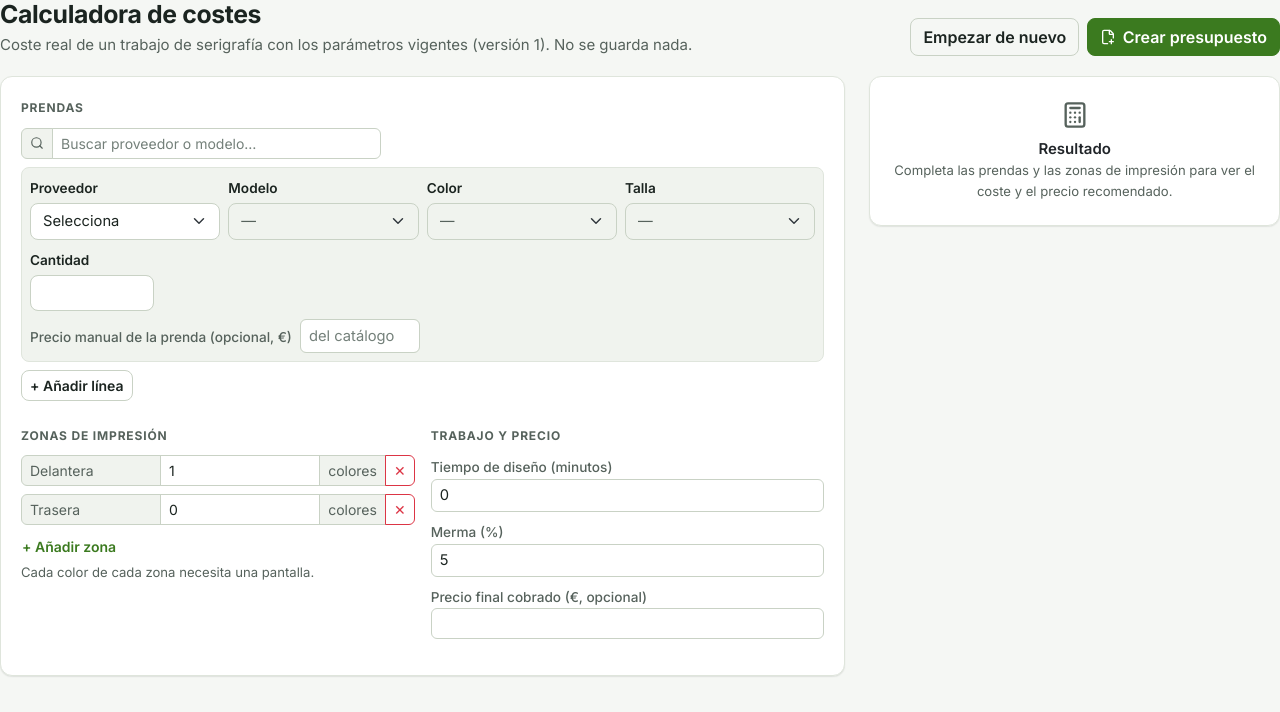
Test: de la calculadora a un presupuesto nuevo › si el trabajo está incompleto avisa antes de continuar; se puede seguir en la calculadora o pasarlo igualmente
Expected: the text "versión 1" is shown, [0,35,692,54]
Type "12" into the number field labelled "Cantidad" at {"x": 92, "y": 293}, box [30,275,154,312]
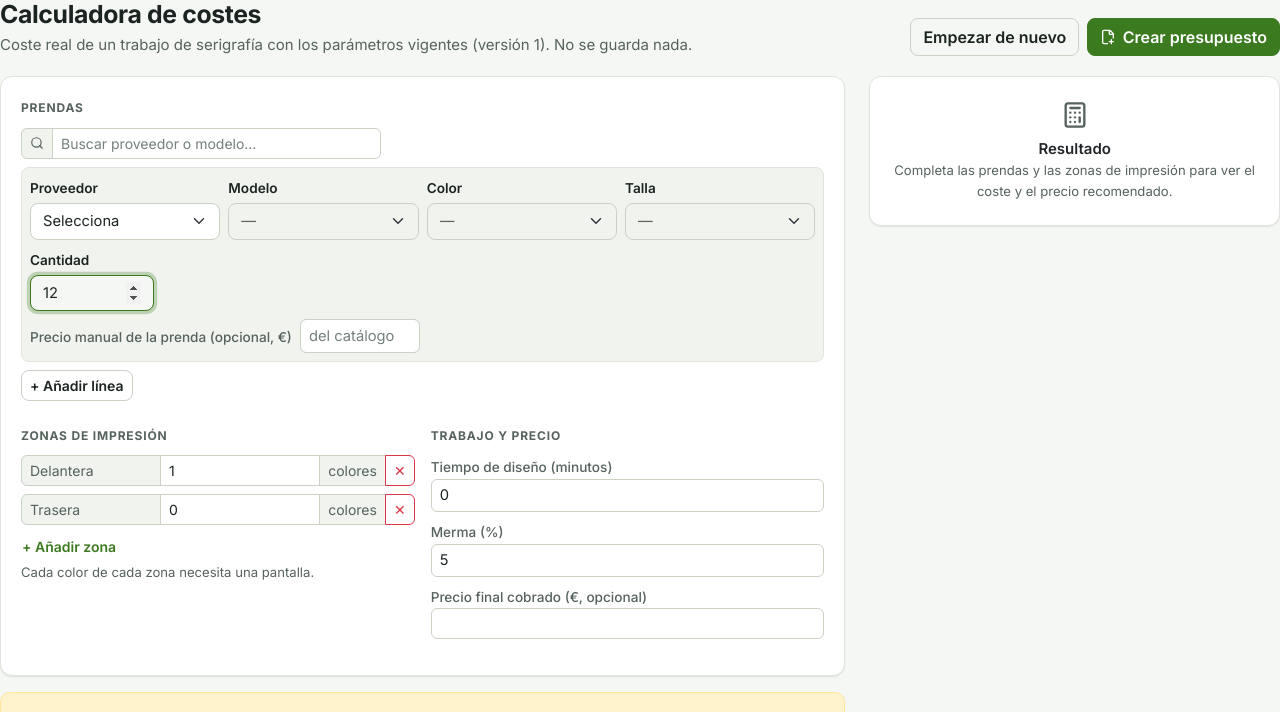
Click the button "Crear presupuesto" at {"x": 1184, "y": 37}, box [1087,18,1279,56]
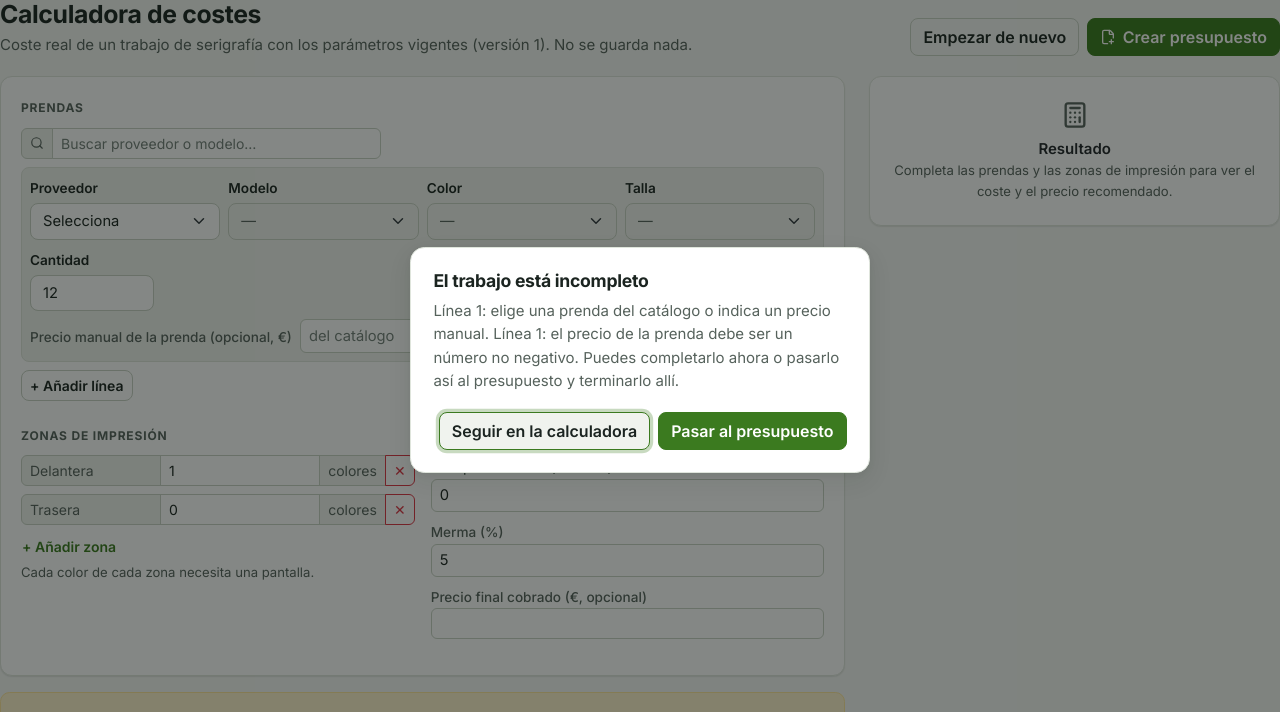
Result: the dialog "El trabajo está incompleto" shows "elige una prenda del catálogo o indica un precio manual" at [433,301,839,390]
Click the button "Seguir en la calculadora" at {"x": 544, "y": 431}, box [439,412,650,450]
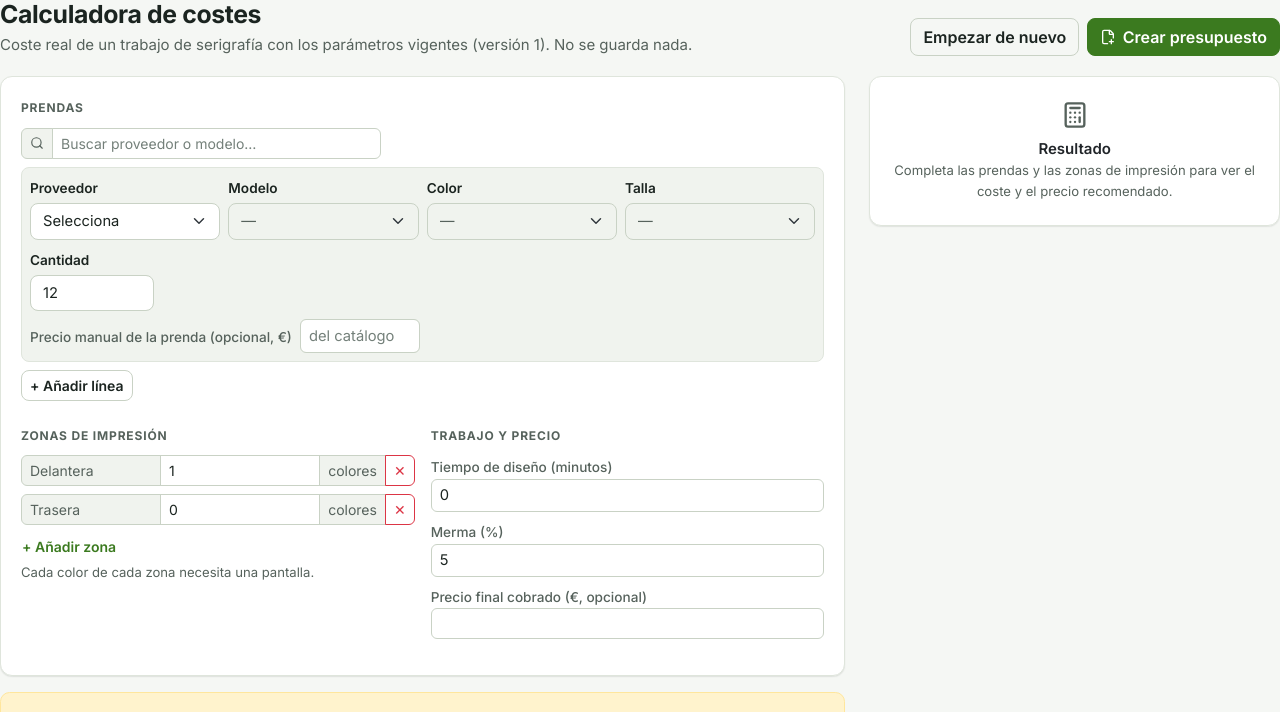
Expected: the heading "Calculadora de costes" is shown, [0,0,261,29]
Click the button "Crear presupuesto" at {"x": 1184, "y": 37}, box [1087,18,1279,56]
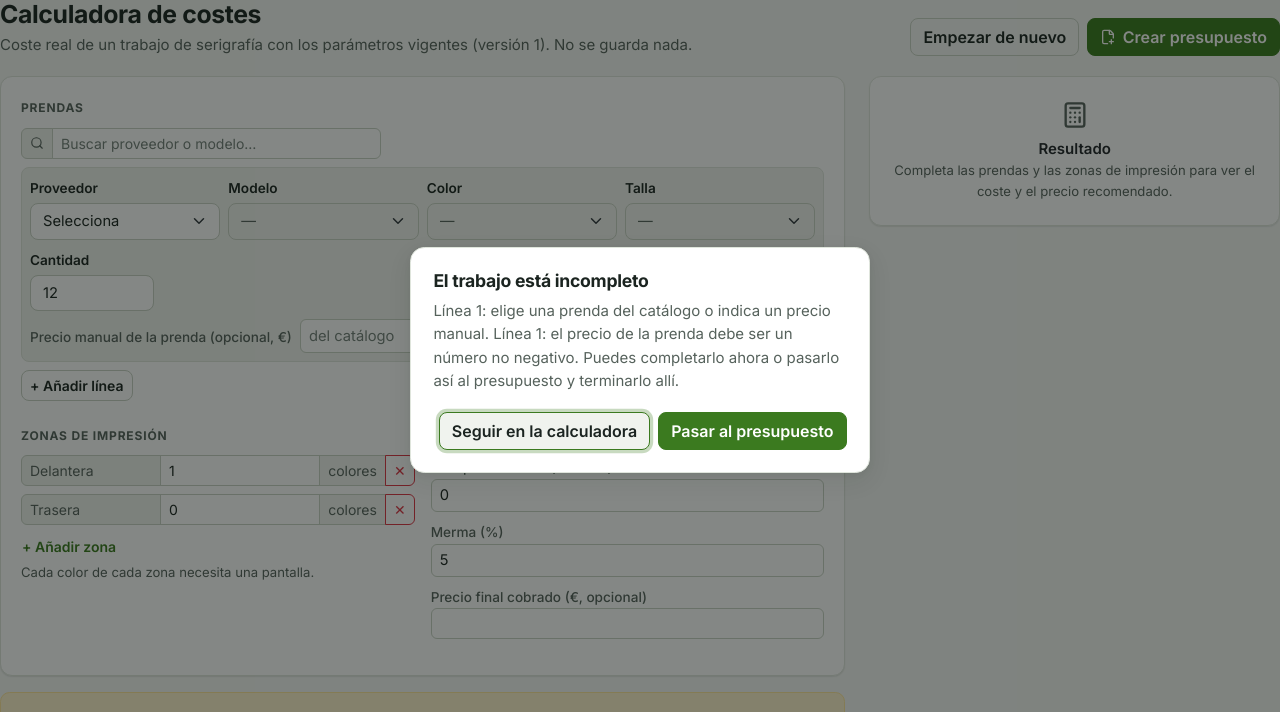
Click the button "Pasar al presupuesto" at {"x": 752, "y": 431}, box [658,412,847,450]
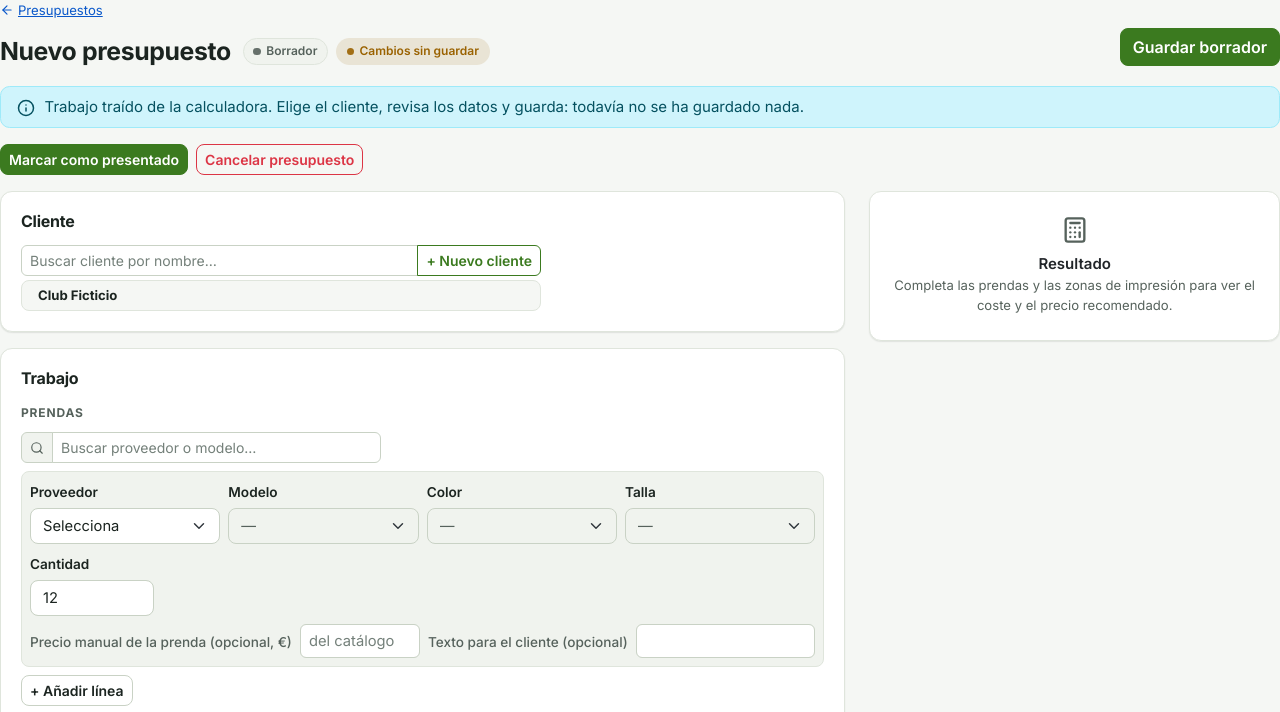
Result: the heading "Nuevo presupuesto" is shown at [0,37,231,66]
Result: the number field labelled "Cantidad" holds "12" at [30,580,154,616]
